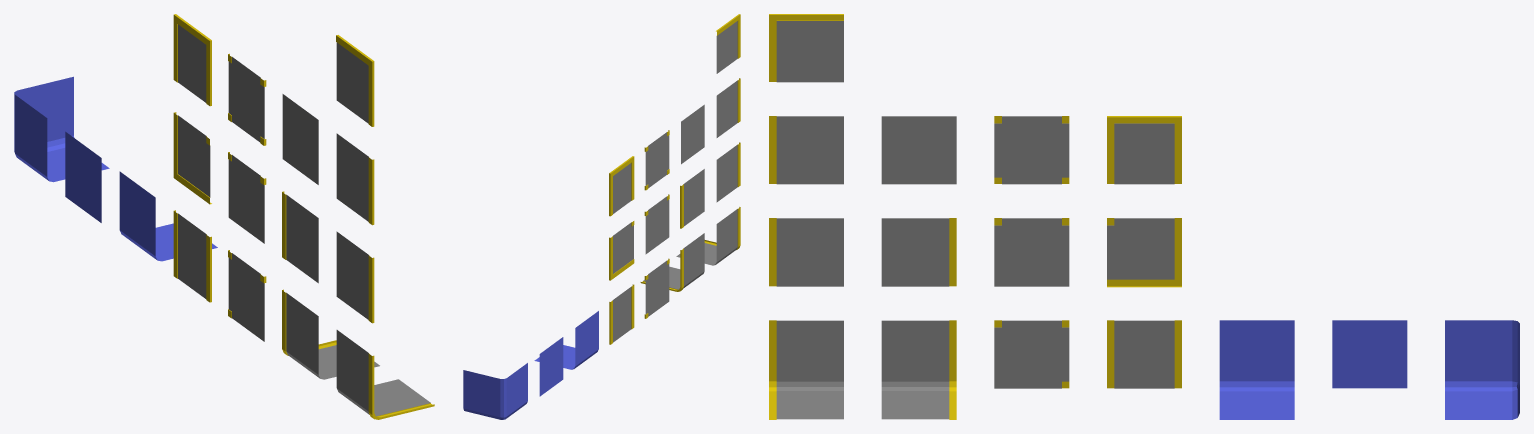
Rendered from Metalic.fbx.
3 views of the same model, side by side, from view 1: azimuth 30°, elevation 25°; view 2: azimuth 150°, elevation 25°; view 3: azimuth 270°, elevation 25° (orthographic). The views are drawn at different scales.
Parts seen in each view (by area): view 1: Cubo.002, Cubo.013, Cubo.003, Cubo.025, Cubo.010, Cubo.017, Cubo.005, Cubo.018, Cubo.014, Cubo.007, Cubo.012, Cubo.020 (+4 smaller); view 2: Cubo.002, Cubo.013, Cubo.003, Cubo.025, Cubo.010, Cubo.005, Cubo.017, Cubo.007, Cubo.012, Cubo.020, Cubo.024, Cubo.014 (+4 smaller); view 3: Cubo.025, Cubo.003, Cubo.013, Cubo.002, Cubo.007, Cubo.019, Cubo.024, Cubo, Cubo.016, Cubo.020, Cubo.012, Cubo.005 (+4 smaller).
Part boxes in pixels (box(x1,y1,x2,y2)): Cubo.002: box(14, 76, 109, 182); Cubo.013: box(336, 330, 434, 419); Cubo.003: box(282, 289, 379, 379); Cubo.025: box(119, 171, 217, 261); Cubo.010: box(173, 14, 211, 106); Cubo.017: box(336, 35, 374, 126); Cubo.005: box(173, 210, 211, 302); Cubo.018: box(336, 133, 374, 225); Cubo.014: box(336, 231, 374, 323); Cubo.007: box(173, 112, 211, 204); Cubo.012: box(228, 53, 266, 145); Cubo.020: box(228, 250, 266, 341); Cubo.002: box(463, 363, 527, 419); Cubo.013: box(676, 207, 740, 265); Cubo.003: box(640, 233, 704, 291); Cubo.025: box(534, 311, 598, 369); Cubo.010: box(609, 156, 634, 216); Cubo.005: box(609, 284, 634, 344); Cubo.017: box(716, 14, 740, 73); Cubo.007: box(609, 221, 634, 280); Cubo.012: box(644, 130, 669, 190); Cubo.020: box(644, 258, 669, 318); Cubo.024: box(644, 194, 669, 254); Cubo.014: box(716, 142, 740, 202); Cubo.025: box(1219, 320, 1294, 419); Cubo.003: box(881, 320, 956, 419); Cubo.013: box(769, 320, 843, 419); Cubo.002: box(1445, 320, 1519, 419); Cubo.007: box(1107, 218, 1181, 287); Cubo.019: box(881, 218, 956, 286); Cubo.024: box(994, 218, 1069, 286); Cubo: box(1332, 320, 1407, 388); Cubo.016: box(881, 116, 956, 184); Cubo.020: box(994, 320, 1069, 388); Cubo.012: box(994, 116, 1069, 184); Cubo.005: box(1107, 320, 1181, 388).
Bounding box in the file's own units: 200 × 1100 × 2000.
